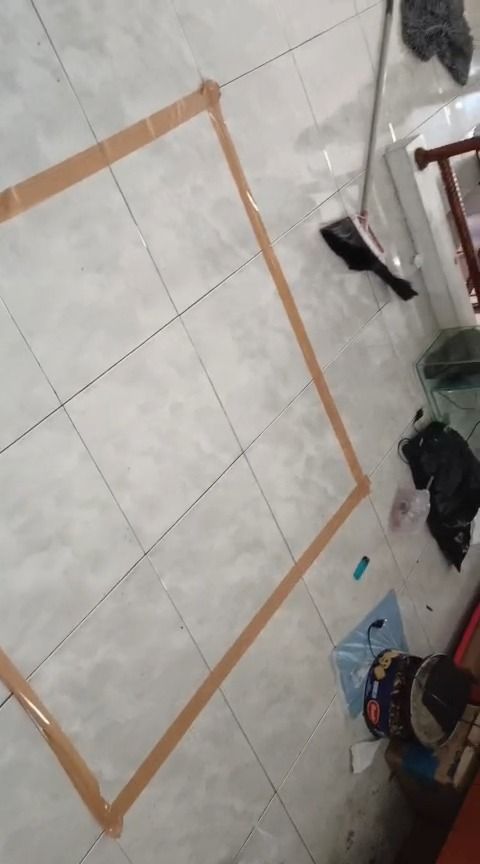floor marking: (0, 81, 369, 837)
